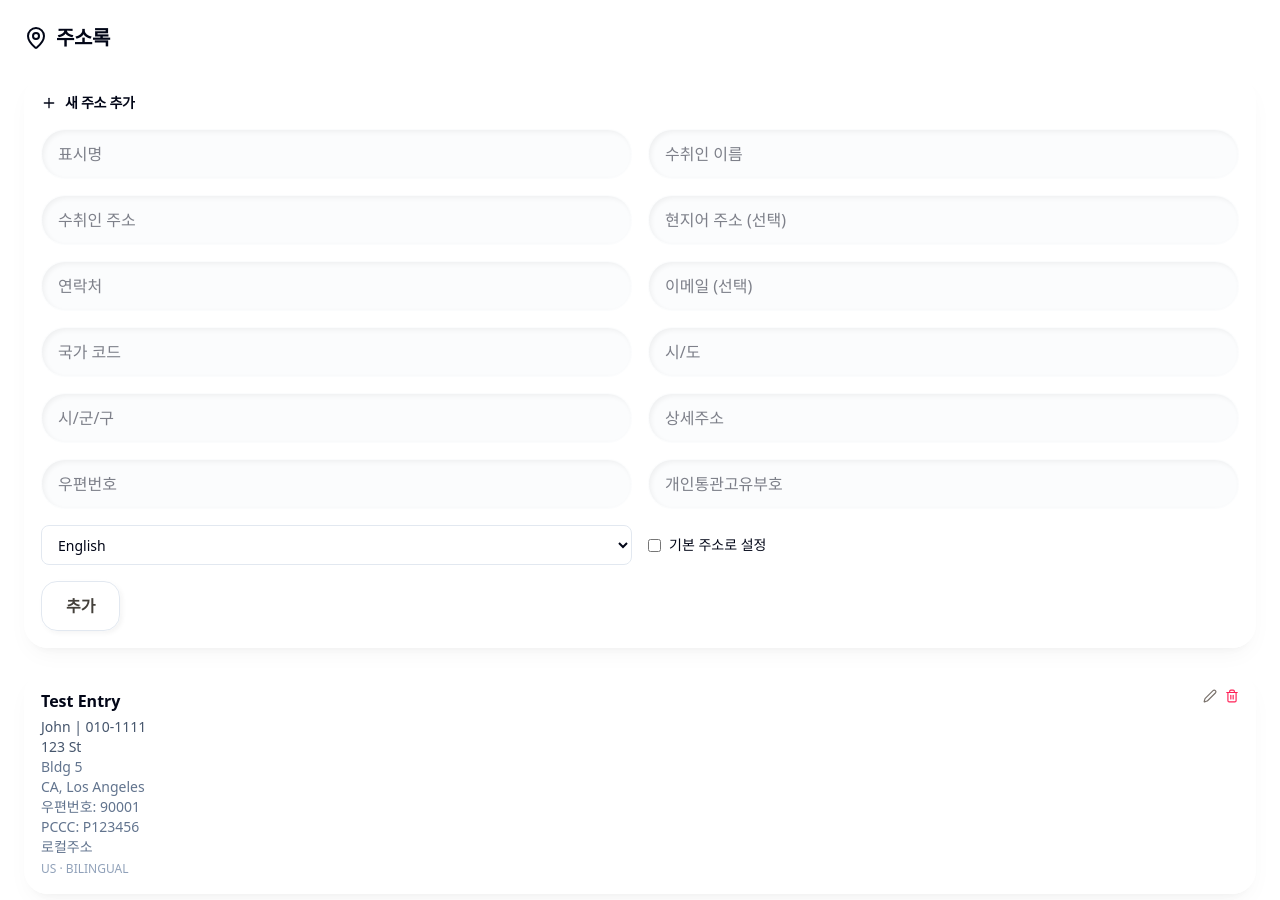
Scenario: TC-ADDR-01: AddressBookClient 5개 필드 표시 › 수정 버튼 클릭 시 handleEdit으로 5개 필드가 폼에 채워짐
Click the 2nd button at point(1210, 696), box [1203, 689, 1217, 703]
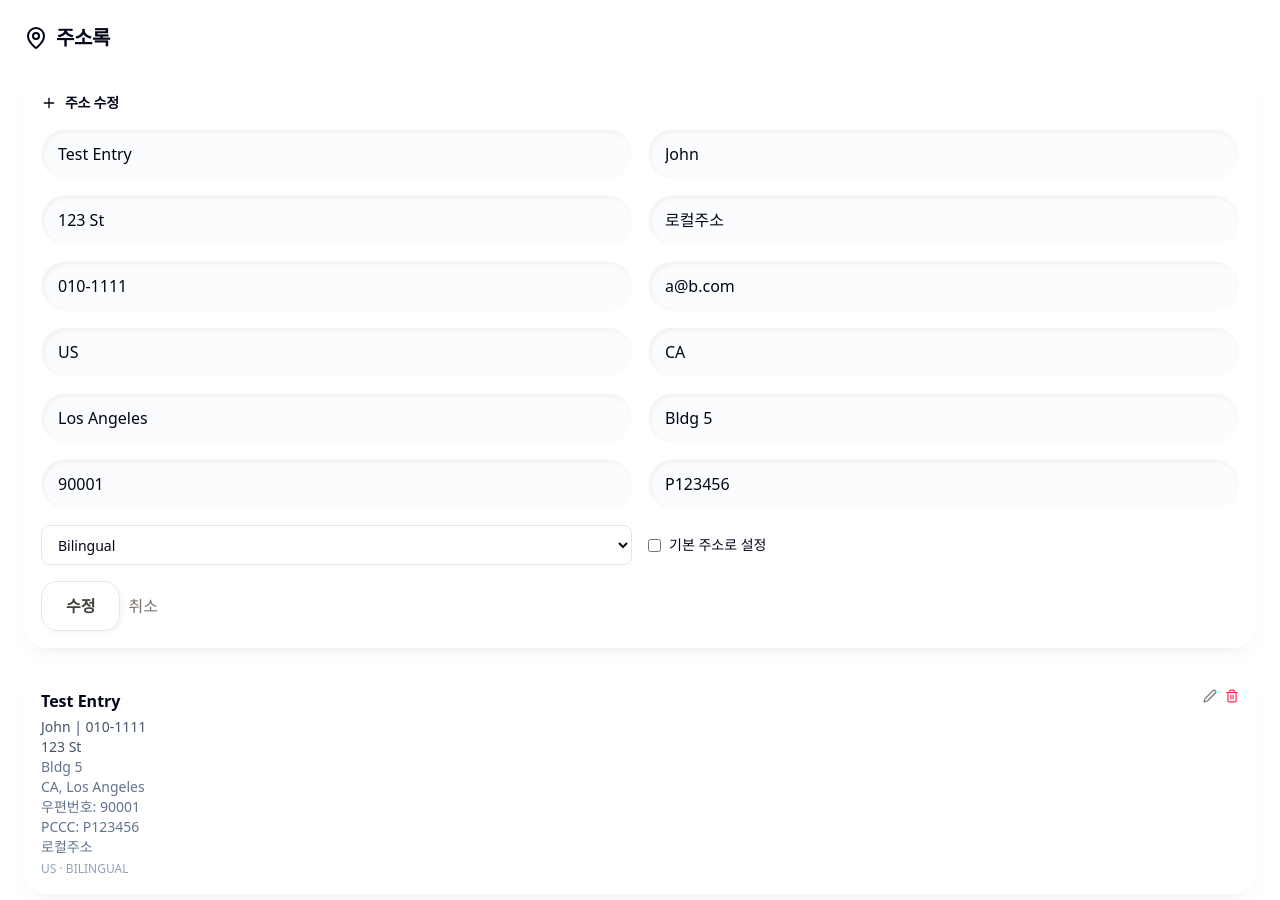
Check: the heading "주소 수정" is shown, box [41, 93, 119, 112]
Check: the 8th field with placeholder "시/도" holds "CA", box [648, 327, 1239, 377]
Check: the 9th field with placeholder "시/군/구" holds "Los Angeles", box [41, 393, 632, 443]
